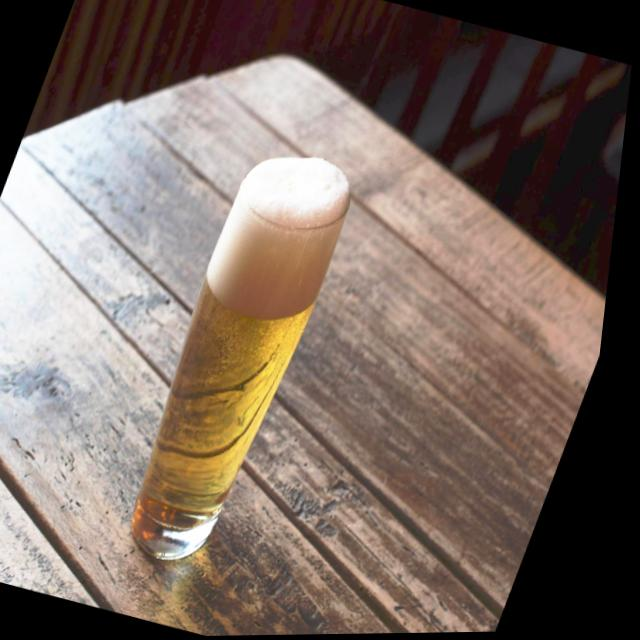drink: (98, 140, 369, 578)
